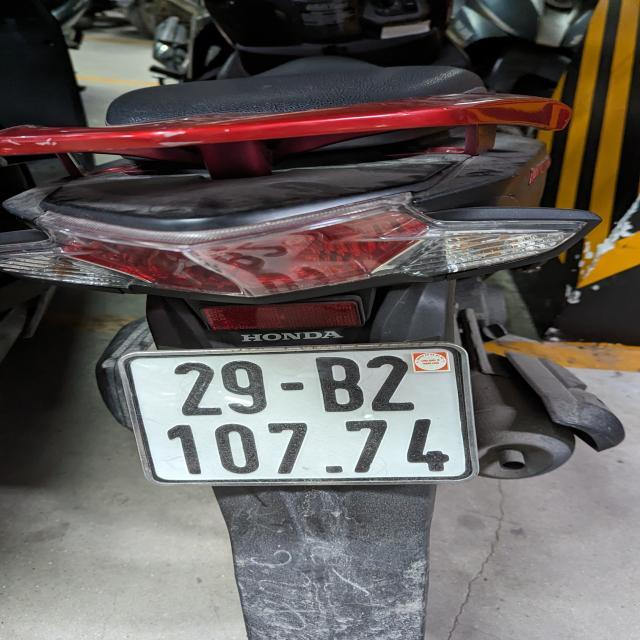license: (121, 340, 479, 485)
